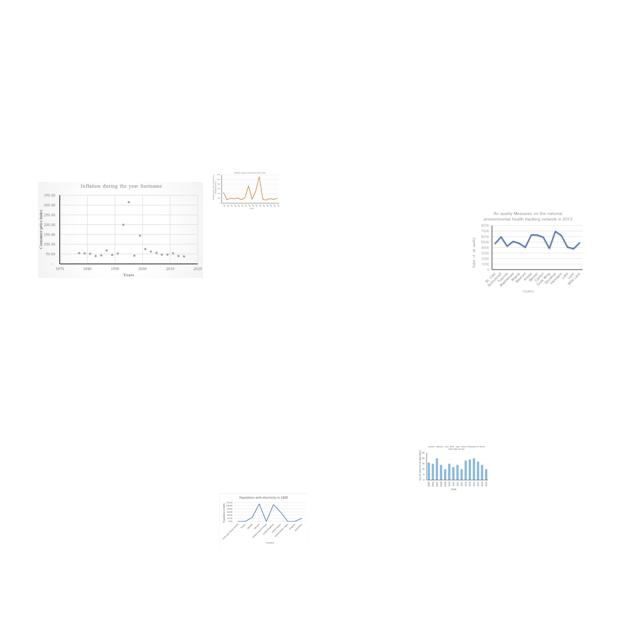Graph: (38, 182, 203, 278), (468, 210, 585, 295), (219, 493, 308, 547), (417, 445, 489, 492), (212, 171, 280, 210)
